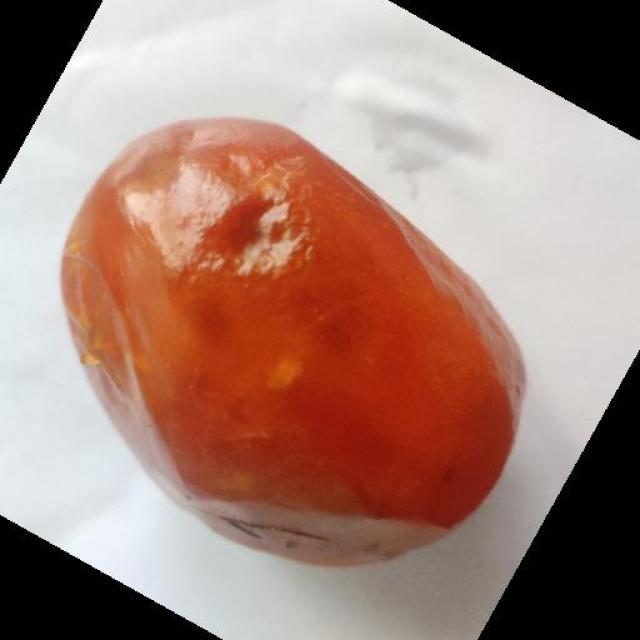Stale_tomato: (58, 136, 529, 538)
